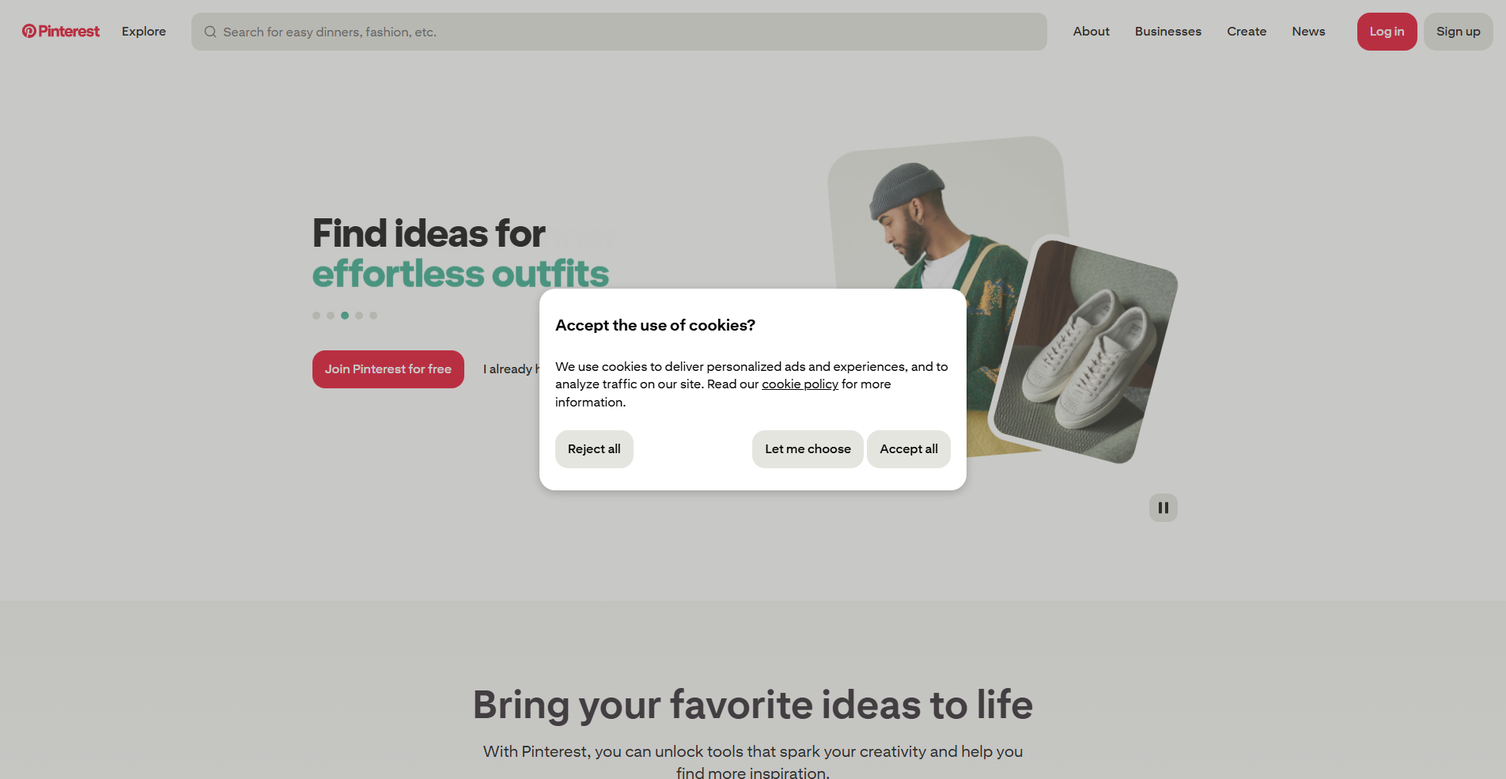button: (471, 350, 644, 388), (312, 350, 464, 388), (753, 430, 864, 468), (867, 430, 951, 468), (555, 430, 633, 468), (1424, 13, 1493, 51), (1357, 13, 1417, 51), (753, 129, 791, 167), (1149, 493, 1178, 522)
input: (223, 13, 1029, 51)
link: (1122, 13, 1214, 51), (109, 13, 179, 51), (1214, 13, 1279, 51), (1060, 13, 1122, 51), (1279, 13, 1338, 51), (13, 23, 109, 40), (762, 376, 839, 394)
